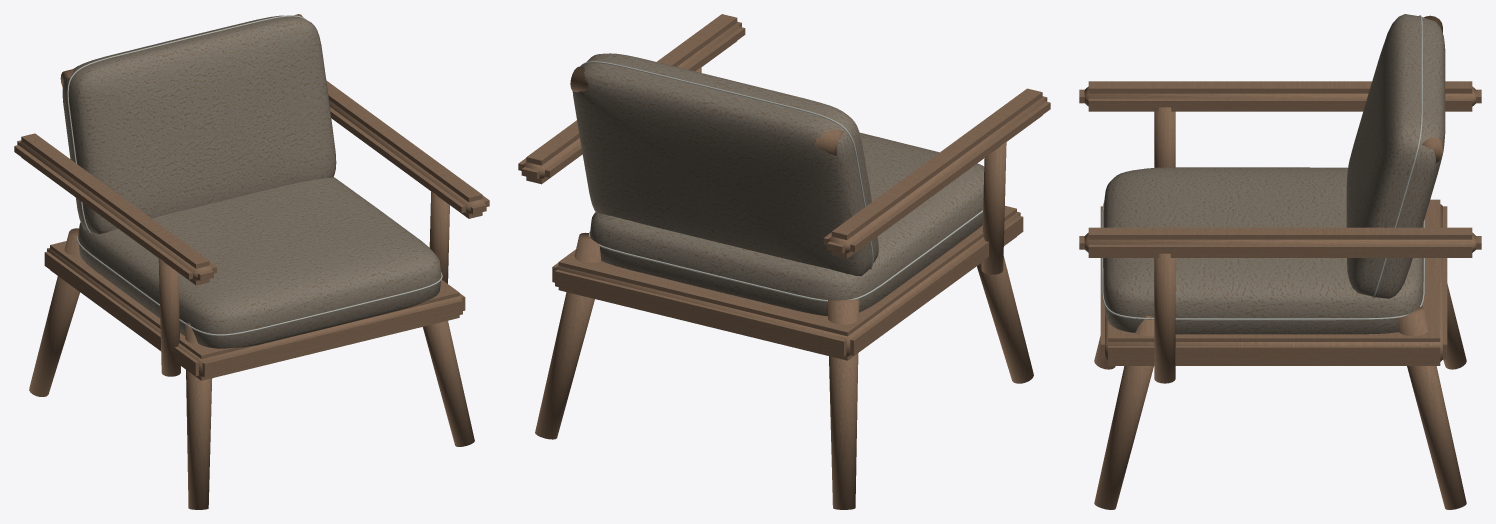
The model's file is industrial.armchair.gltf.
3 views of the same model, side by side, from view 1: azimuth 30°, elevation 25°; view 2: azimuth 150°, elevation 25°; view 3: azimuth 270°, elevation 25° (orthographic). The views are drawn at different scales.
Visible parts, largest first — view 1: industrial.armchair.splayed-leg; view 2: industrial.armchair.splayed-leg; view 3: industrial.armchair.splayed-leg.
Boxes of the visible parts, bbox=[...] form: industrial.armchair.splayed-leg: bbox=[14, 14, 489, 509]; industrial.armchair.splayed-leg: bbox=[518, 14, 1050, 509]; industrial.armchair.splayed-leg: bbox=[1079, 14, 1481, 509].
Size of the model in its own units: 0.7494 by 0.8007 by 0.7896.
Materials: 3 (2 with a texture image).
